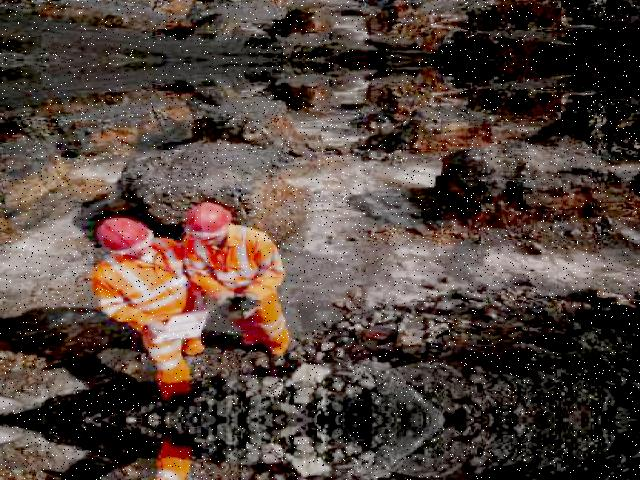Helmet: (88, 213, 165, 257), (174, 199, 237, 237)
